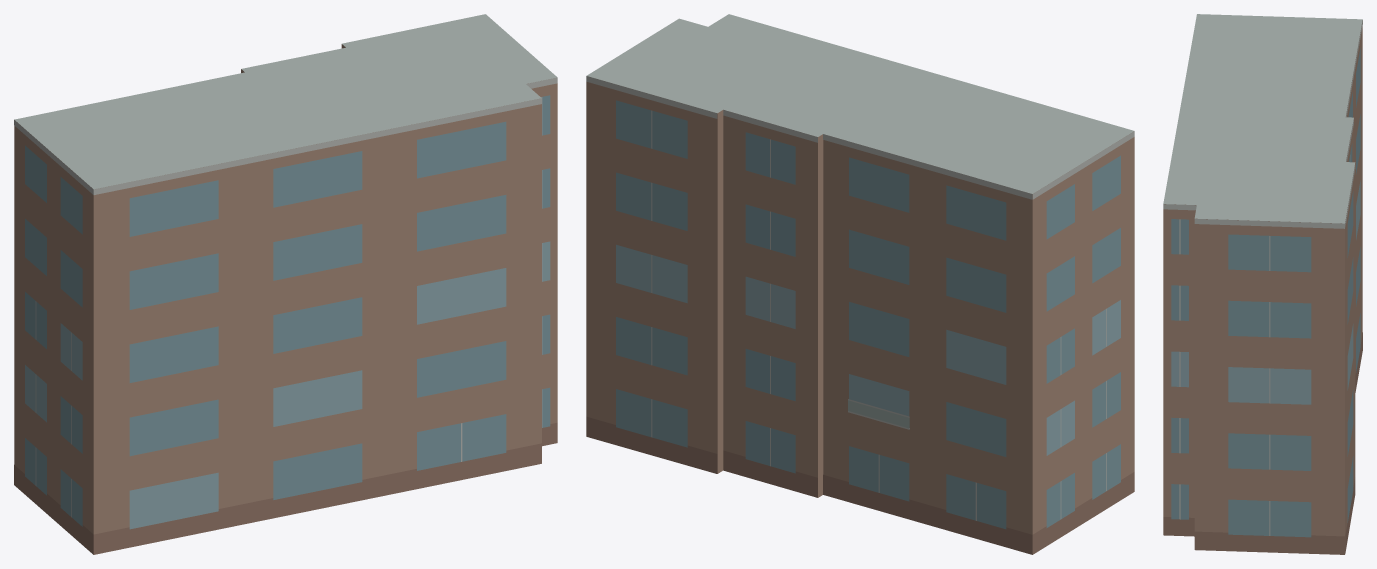
File: survey-upis-32519582.glb
3 renders of one model, left to right at view 1: azimuth 30°, elevation 25°; view 2: azimuth 150°, elevation 25°; view 3: azimuth 270°, elevation 25°, orthographic. The views are drawn at different scales.
Parts seen in each view (by area): view 1: survey-upis-32519582.tmp; view 2: survey-upis-32519582.tmp; view 3: survey-upis-32519582.tmp.
Part boxes in pixels (<box>): survey-upis-32519582.tmp: <box>14,14,557,554</box>; survey-upis-32519582.tmp: <box>586,14,1134,554</box>; survey-upis-32519582.tmp: <box>1163,14,1362,554</box>.
Size of the model in its own units: 20.69 by 15.25 by 8.33.
